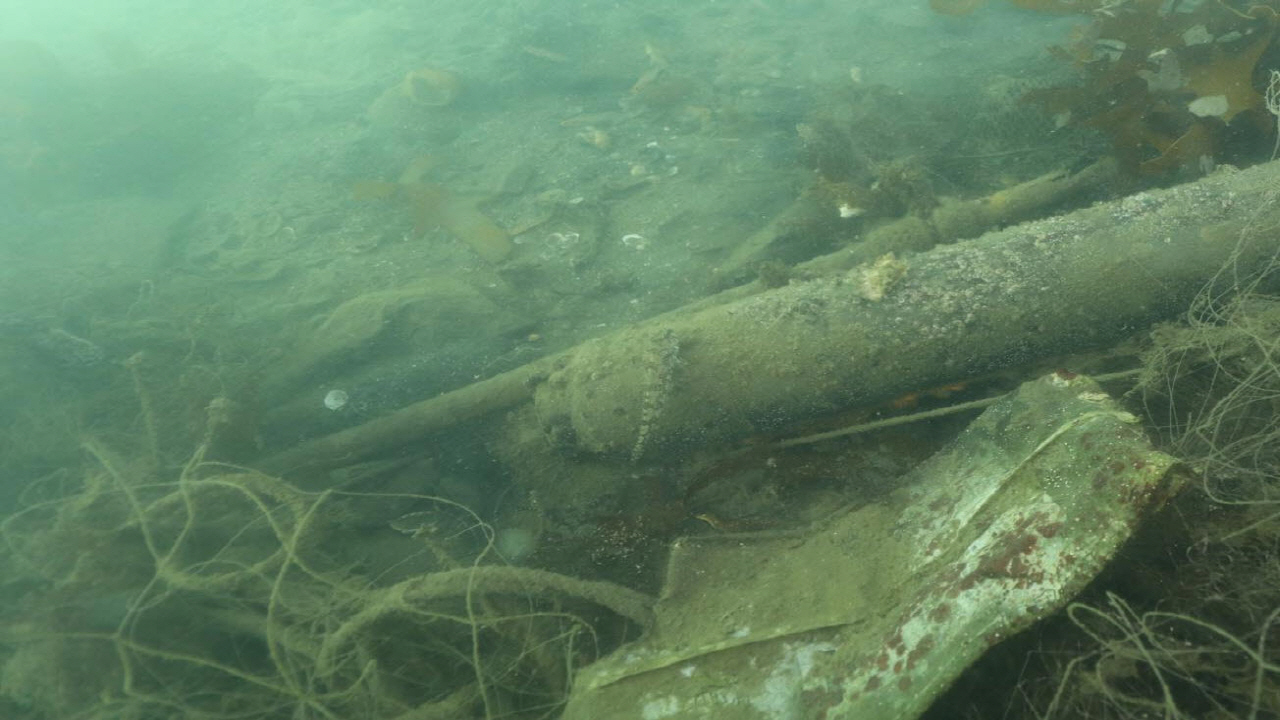bundle of ropes: (64, 468, 655, 720)
eel fish trap: (531, 153, 1278, 459)
